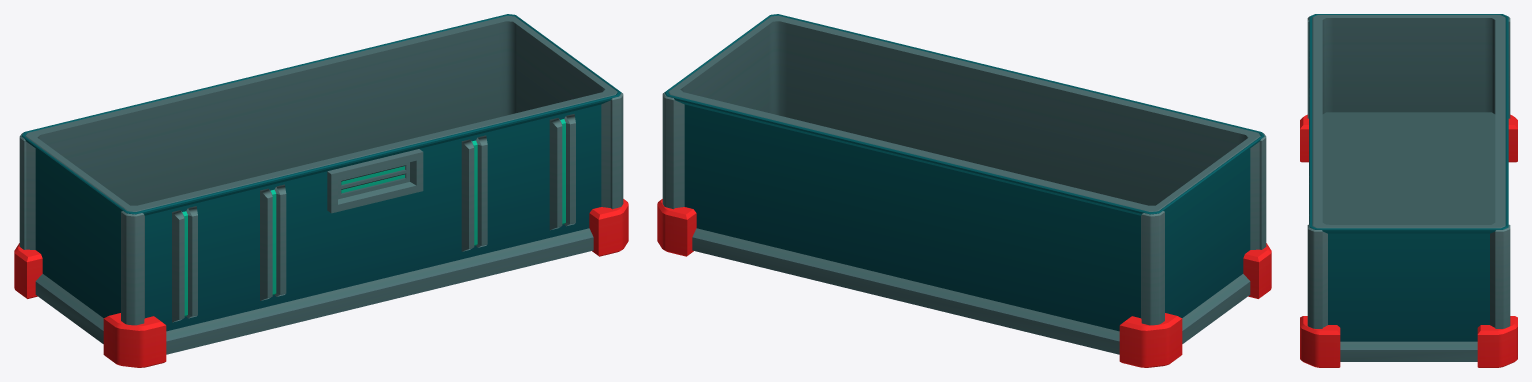
The model's file is Container_07.fbx.
The picture shows the model from 3 angles, left to right: view 1: azimuth 30°, elevation 25°; view 2: azimuth 150°, elevation 25°; view 3: azimuth 270°, elevation 25°; orthographic projection. The views are drawn at different scales.
Visible parts, largest first — view 1: Container_07; view 2: Container_07; view 3: Container_07.
Part boxes in pixels (bbox=[...]): Container_07: bbox=[14, 14, 628, 367]; Container_07: bbox=[657, 14, 1271, 367]; Container_07: bbox=[1300, 14, 1517, 367].
Size of the model in its own units: 149 by 42.21 by 61.35.
